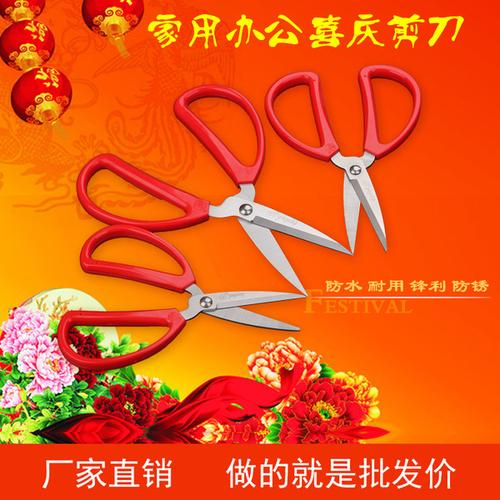scissor: (77, 87, 353, 296), (264, 64, 465, 254), (55, 224, 305, 371)
